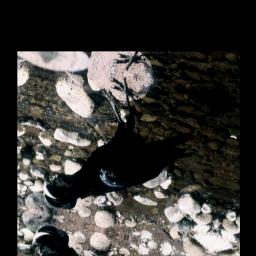Crow: (38, 61, 205, 244)
